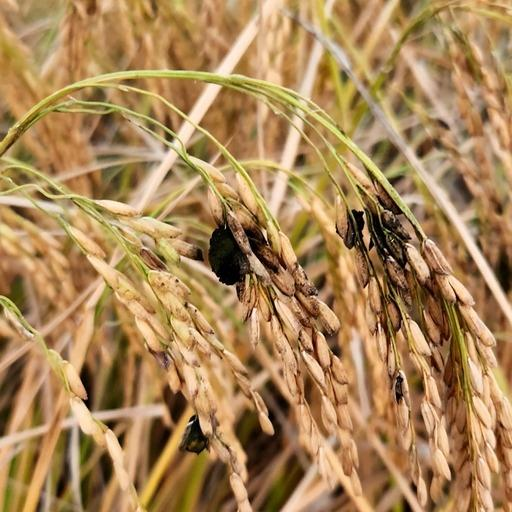Leaf_Scald: (202, 192, 291, 294), (345, 176, 412, 266), (176, 412, 216, 456)
